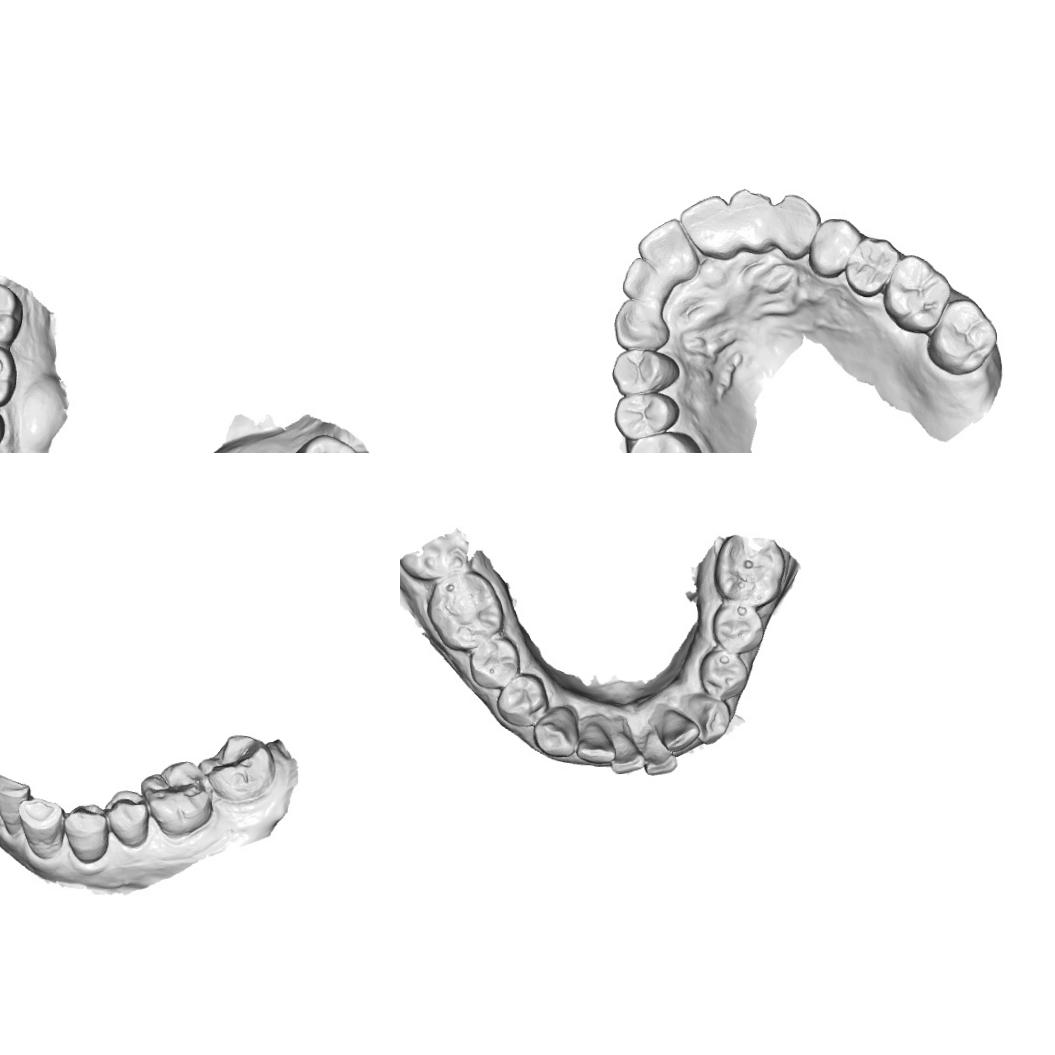canine: (771, 192, 823, 260), (17, 794, 67, 862), (612, 298, 671, 354), (531, 703, 581, 758), (684, 692, 732, 746)
incisor: (678, 193, 738, 264), (636, 216, 700, 282), (728, 186, 774, 256), (620, 256, 670, 306), (656, 705, 702, 753), (574, 718, 618, 764), (0, 772, 32, 835), (641, 725, 678, 776), (608, 728, 646, 775)
molar: (425, 569, 506, 654), (138, 758, 215, 838), (711, 530, 787, 610), (924, 296, 998, 378), (880, 253, 952, 335), (196, 732, 278, 802), (625, 429, 708, 453), (279, 430, 364, 453), (0, 276, 24, 349), (0, 340, 18, 411)
premolar: (842, 236, 902, 298), (806, 216, 864, 278), (610, 347, 680, 397), (613, 390, 681, 440), (709, 599, 766, 656), (61, 801, 110, 865), (495, 671, 549, 728), (103, 787, 151, 850), (469, 635, 522, 691), (698, 648, 750, 701)
